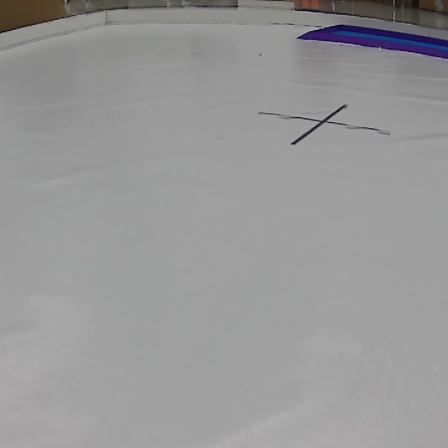blue_aim: (297, 19, 448, 64)
